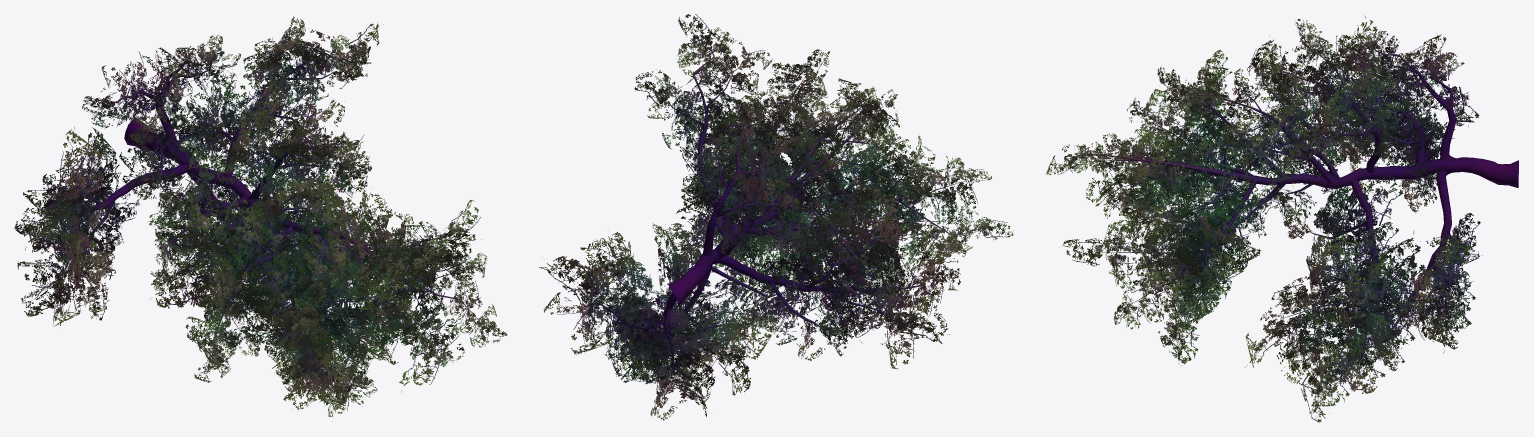
Rendered from oak_large_oak_tree_002_lod0.glb.
3 renders of one model, left to right at view 1: azimuth 30°, elevation 25°; view 2: azimuth 150°, elevation 25°; view 3: azimuth 270°, elevation 25°, orthographic. The views are drawn at different scales.
Parts seen in each view (by area): view 1: Large_oak_tree_002_LOD0; view 2: Large_oak_tree_002_LOD0; view 3: Large_oak_tree_002_LOD0.
Boxes of the visible parts, x1,y1,x2,y2 form: Large_oak_tree_002_LOD0: (14, 16, 507, 421); Large_oak_tree_002_LOD0: (539, 14, 1013, 420); Large_oak_tree_002_LOD0: (1046, 15, 1518, 422).
Bounding box in the file's own units: 24.51 × 22.78 × 26.99.
2 materials, 2 textured.
